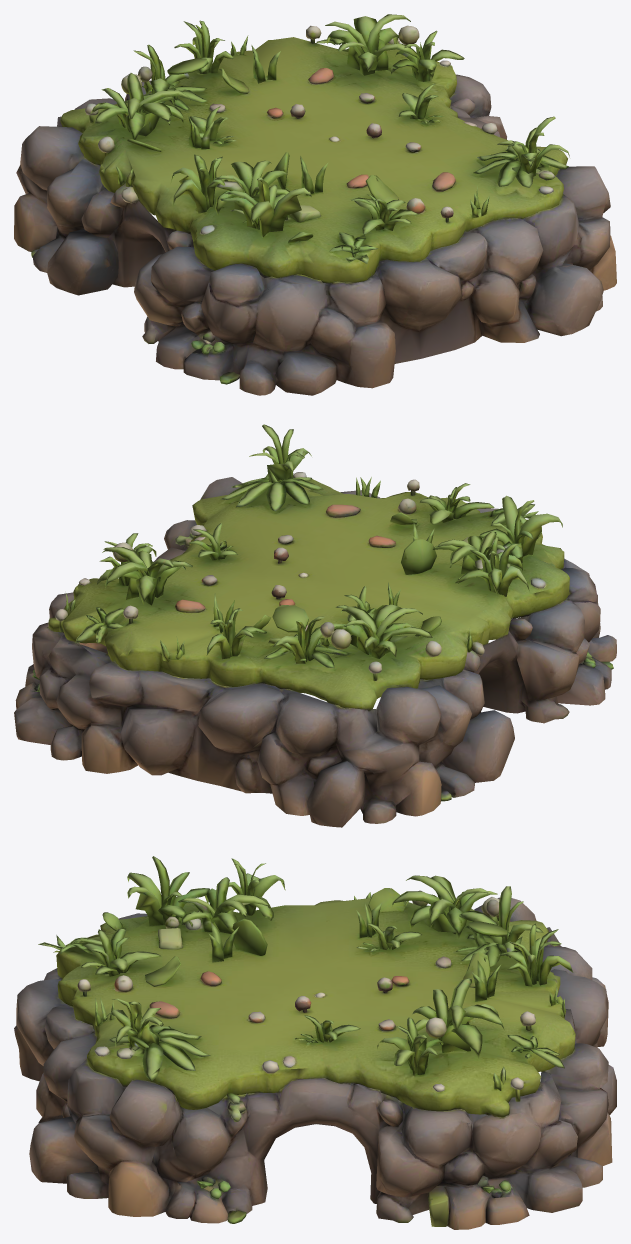
The model's file is VAL_Capital_Environment_Plateau_Mine.glb.
The picture shows the model from 3 angles, top to bottom: view 1: azimuth 30°, elevation 25°; view 2: azimuth 150°, elevation 25°; view 3: azimuth 270°, elevation 25°; orthographic projection. The views are drawn at different scales.
Visible parts, largest first — view 1: tripo_node_1d874995-33a2-4e49-b26b-77c3d5508614; view 2: tripo_node_1d874995-33a2-4e49-b26b-77c3d5508614; view 3: tripo_node_1d874995-33a2-4e49-b26b-77c3d5508614.
Boxes of the visible parts, x1,y1,x2,y2 form: tripo_node_1d874995-33a2-4e49-b26b-77c3d5508614: (14, 14, 616, 395); tripo_node_1d874995-33a2-4e49-b26b-77c3d5508614: (14, 424, 616, 827); tripo_node_1d874995-33a2-4e49-b26b-77c3d5508614: (14, 856, 616, 1229).
Size of the model in its own units: 0.9199 by 0.3418 by 0.998.
1 material, 1 textured.
